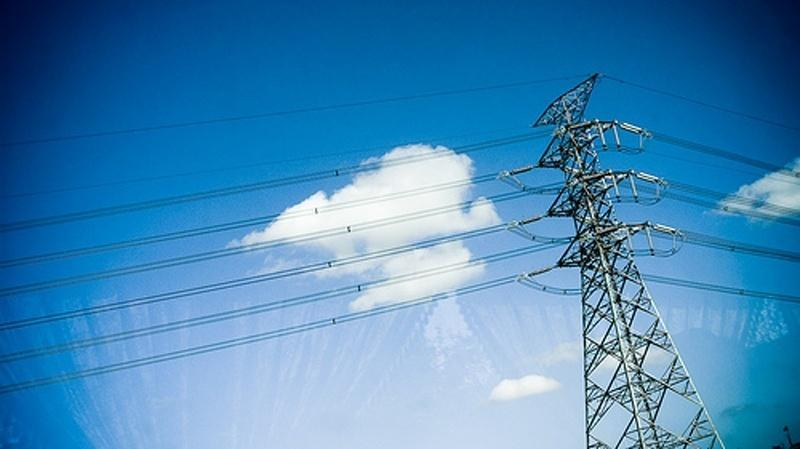power_tower: (499, 73, 730, 449)
